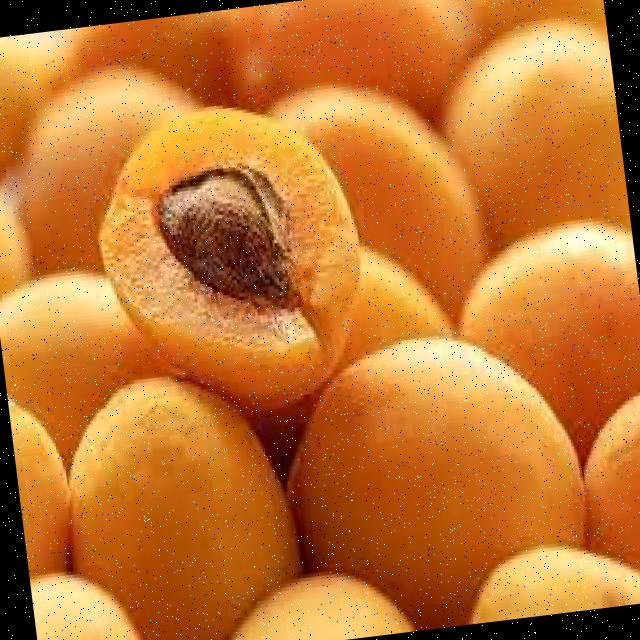Cekirdek: (160, 170, 292, 301)
Kayisi: (289, 337, 586, 627)
